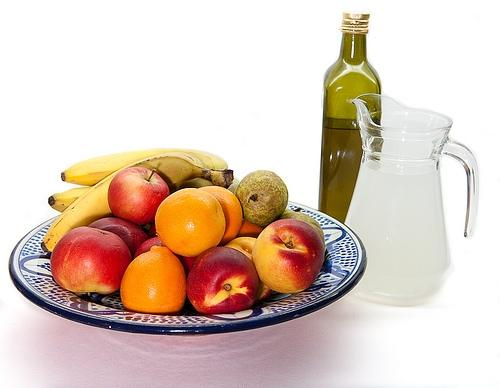banana: (41, 153, 234, 252), (60, 148, 228, 186), (47, 186, 94, 212), (168, 177, 214, 195)
orange: (155, 188, 226, 257), (120, 244, 188, 316), (198, 186, 242, 246), (234, 219, 264, 239)
peach: (50, 226, 132, 294), (252, 218, 325, 294), (186, 246, 258, 314), (88, 217, 150, 261), (224, 237, 257, 264)
pear: (236, 170, 289, 227), (277, 207, 325, 252), (227, 178, 240, 196)
